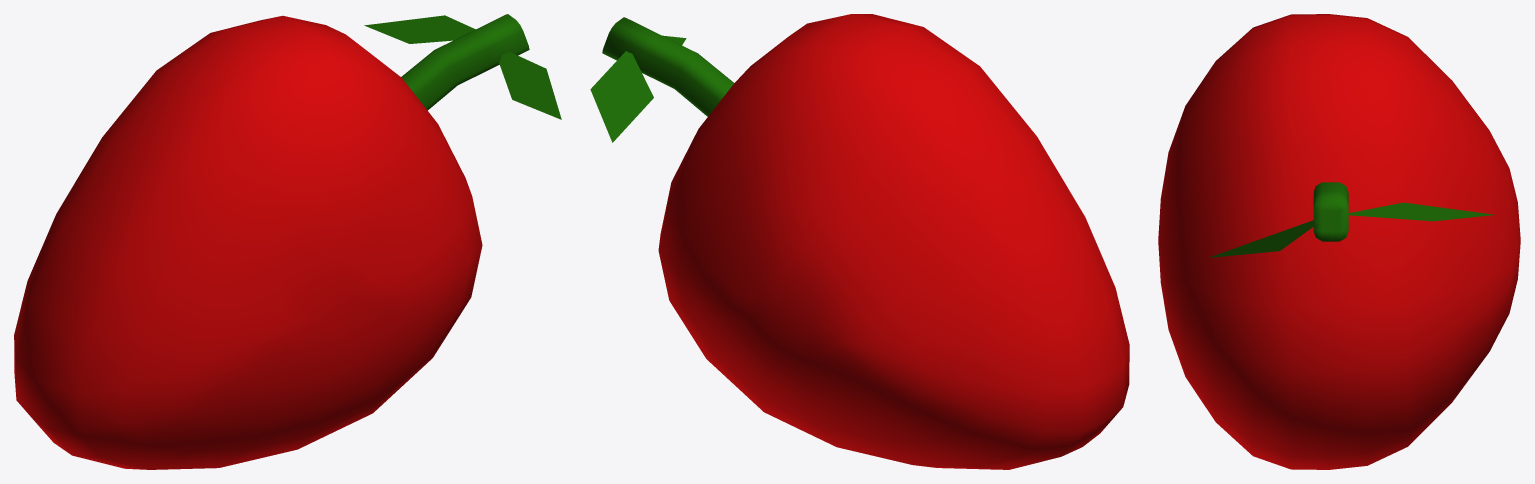
The model's file is morango.fbx.
3 views of the same model, side by side, from view 1: azimuth 30°, elevation 25°; view 2: azimuth 150°, elevation 25°; view 3: azimuth 270°, elevation 25° (orthographic). The views are drawn at different scales.
Parts seen in each view (by area): view 1: Plane; view 2: Plane; view 3: Plane.
Part boxes in pixels (left/top/right/bottom): Plane: left=14, top=14, right=561, bottom=469; Plane: left=590, top=14, right=1129, bottom=469; Plane: left=1158, top=14, right=1520, bottom=469.
Size of the model in its own units: 691 by 535 by 413.
